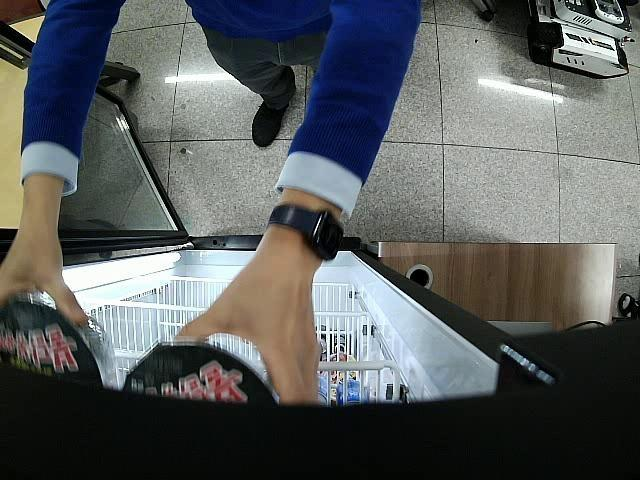07_buldak_L: (0, 294, 120, 393), (121, 343, 278, 404)
